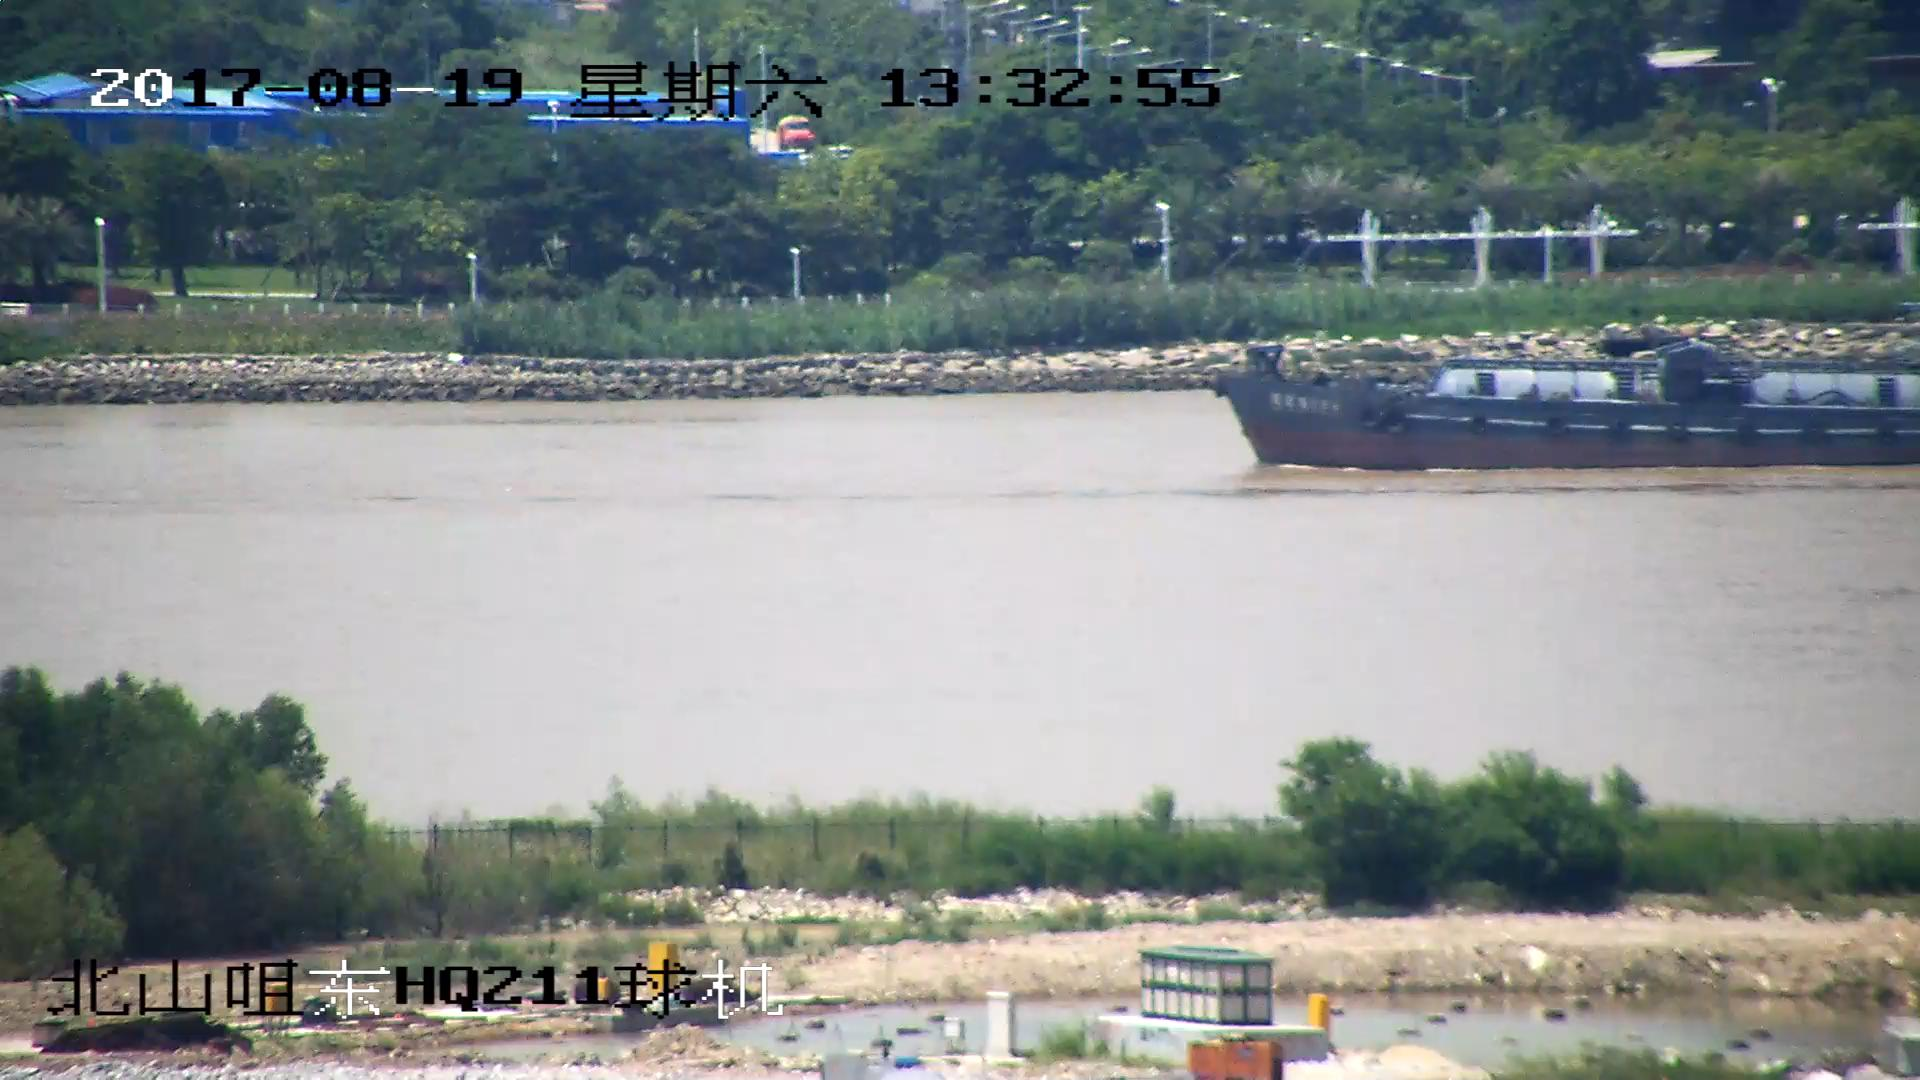bulk cargo carrier: (1211, 347, 1920, 466)
